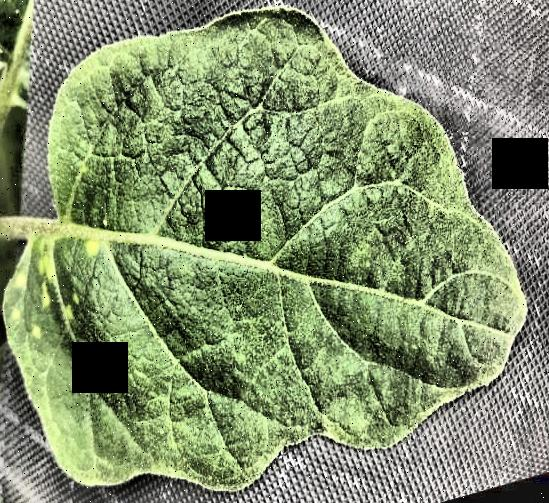HEALTHY: (1, 0, 549, 503)
